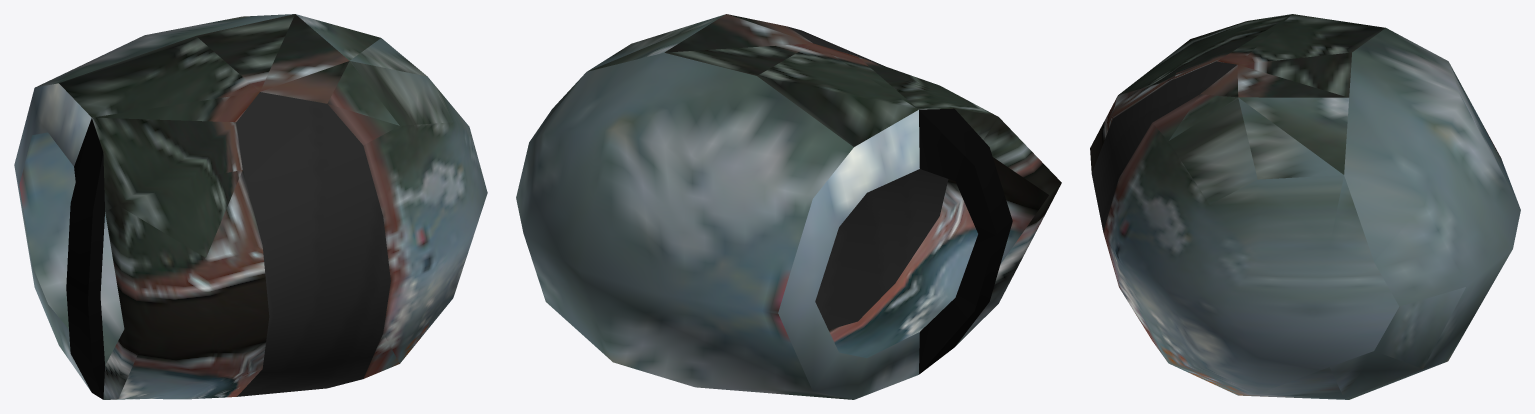
Rendered from CrashHelmetFullBobaFett.fbx.
The picture shows the model from 3 angles, left to right: view 1: azimuth 30°, elevation 25°; view 2: azimuth 150°, elevation 25°; view 3: azimuth 270°, elevation 25°; orthographic projection. The views are drawn at different scales.
Parts seen in each view (by area): view 1: M_CrashHelmetFULL.023; view 2: M_CrashHelmetFULL.023; view 3: M_CrashHelmetFULL.023.
Boxes of the visible parts, x1=… form: M_CrashHelmetFULL.023: x1=14, y1=14, x2=487, y2=399; M_CrashHelmetFULL.023: x1=516, y1=14, x2=1061, y2=399; M_CrashHelmetFULL.023: x1=1090, y1=14, x2=1520, y2=399.
Size of the model in its own units: 0.1955 by 0.1427 by 0.1835.
